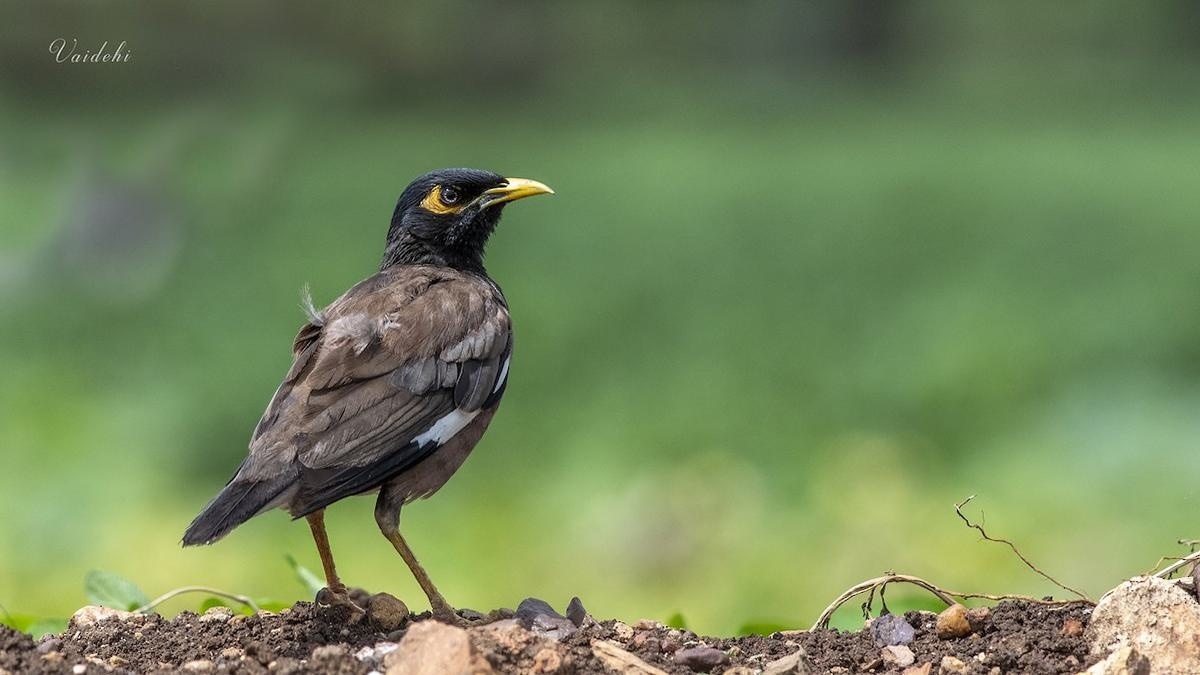myna: (171, 149, 577, 633)
